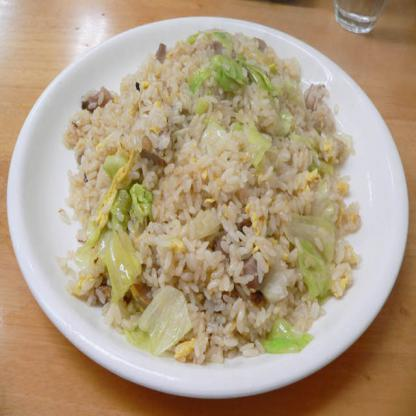fried rice: (61, 25, 348, 344)
